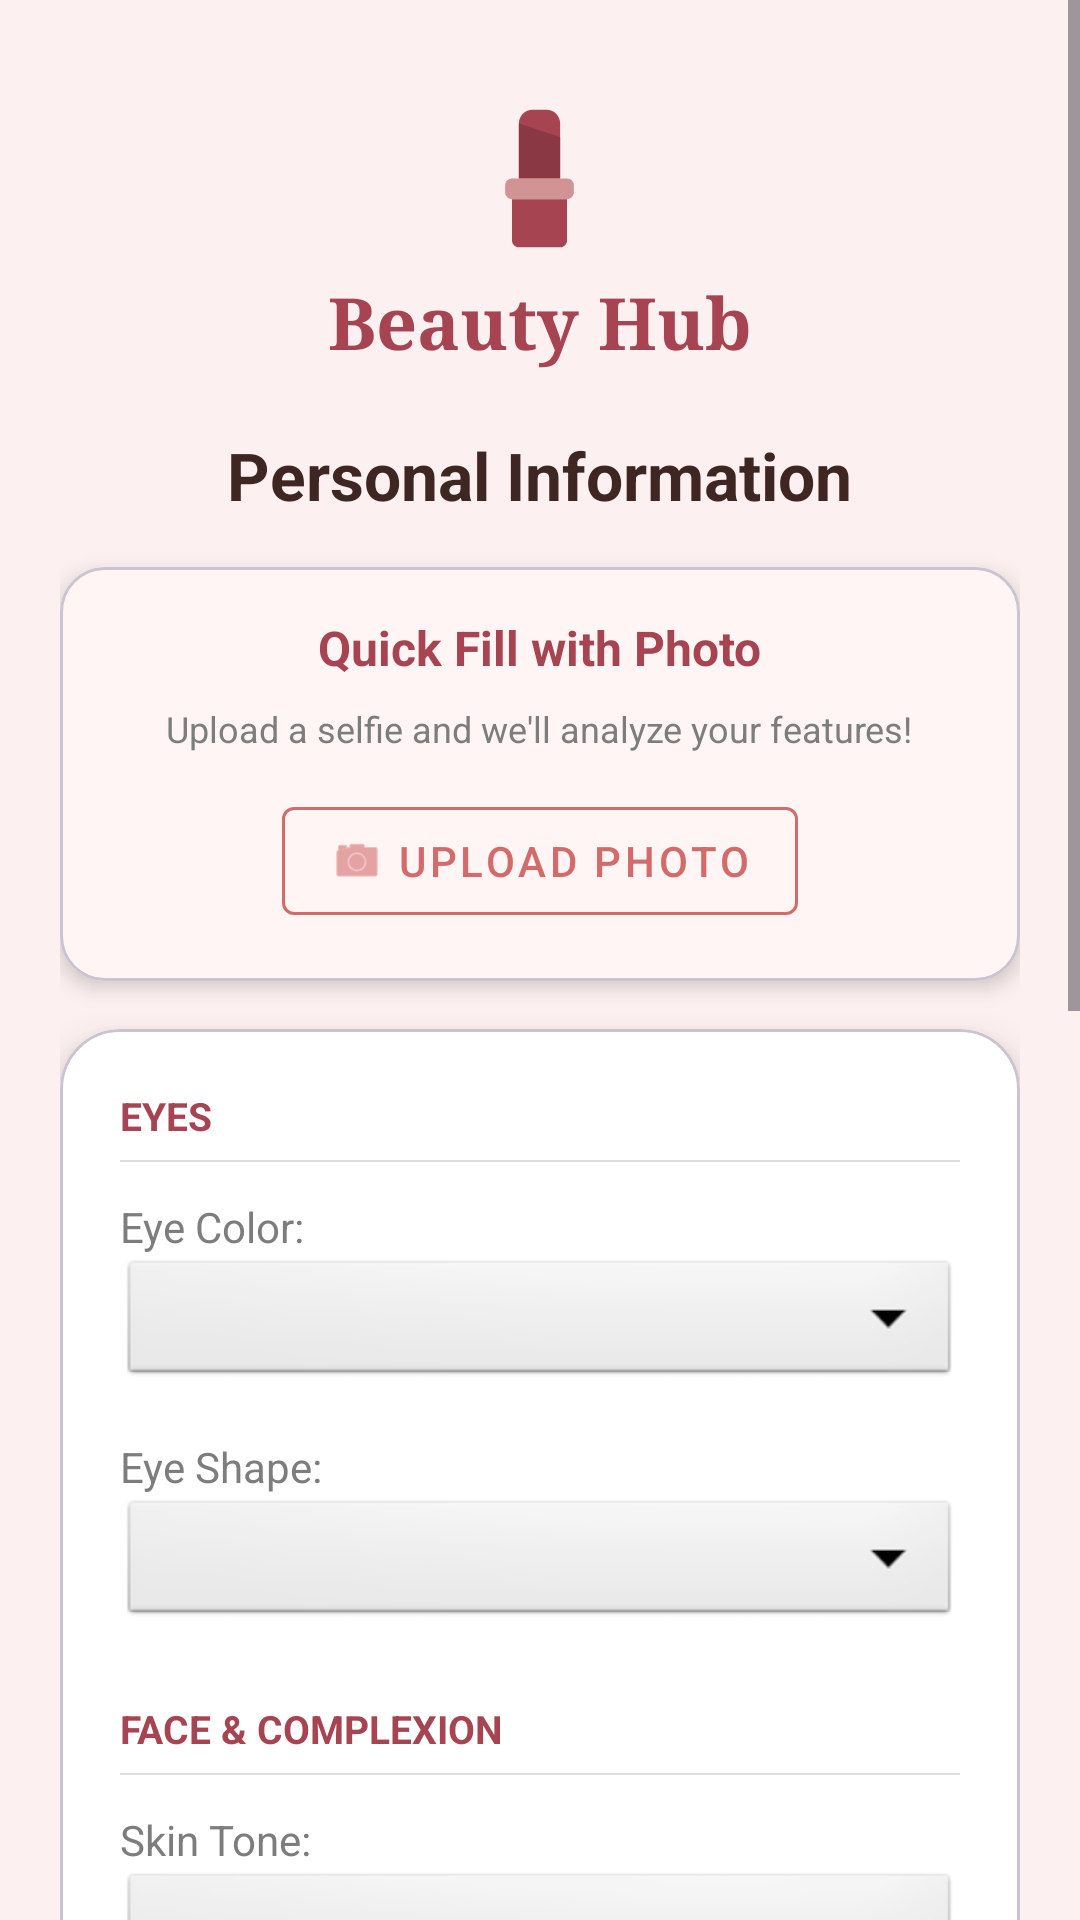

Icons on this 1080×1920 Android screen, each with its box as (x1, y1, x2, y2):
lipstick: (505, 109, 574, 248)
